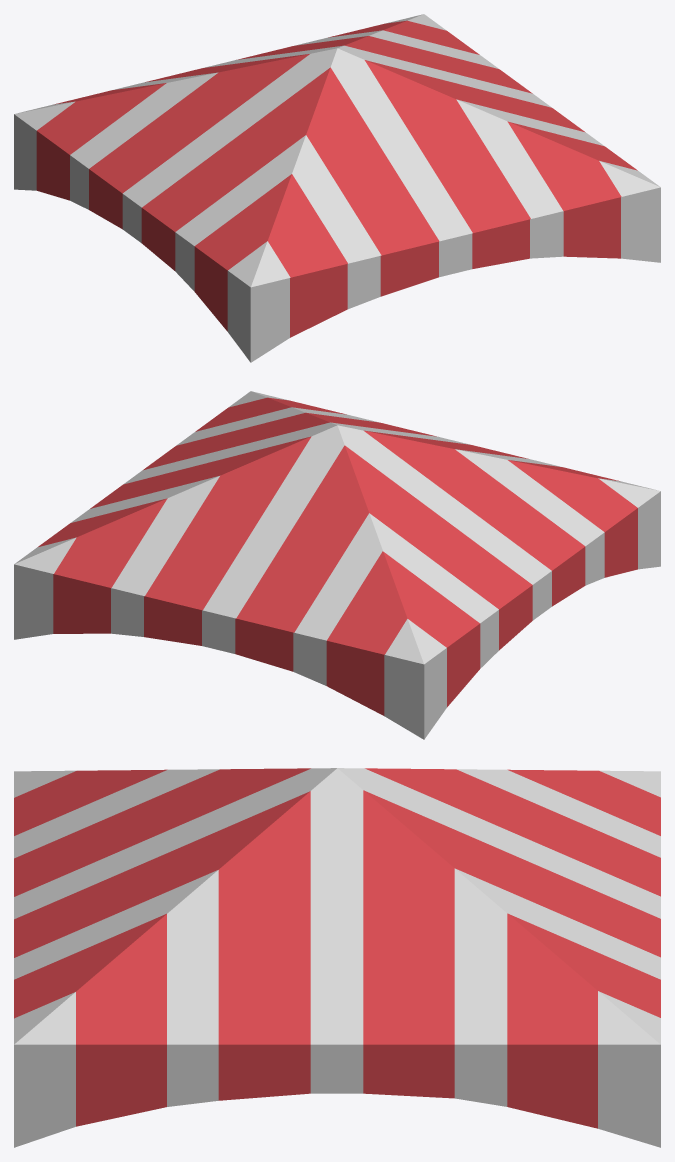
The model's file is gazebo_striped_red.dae.
3 renders of one model, top to bottom at view 1: azimuth 30°, elevation 25°; view 2: azimuth 150°, elevation 25°; view 3: azimuth 270°, elevation 25°, orthographic. The views are drawn at different scales.
Visible parts, largest first — view 1: gazebo_striped_red_a015; view 2: gazebo_striped_red_a015; view 3: gazebo_striped_red_a015.
Part boxes in pixels (bbox=[...]): gazebo_striped_red_a015: bbox=[14, 14, 660, 362]; gazebo_striped_red_a015: bbox=[14, 391, 660, 739]; gazebo_striped_red_a015: bbox=[14, 768, 660, 1147].
Bounding box in the file's own units: 6 × 6 × 2.49.
